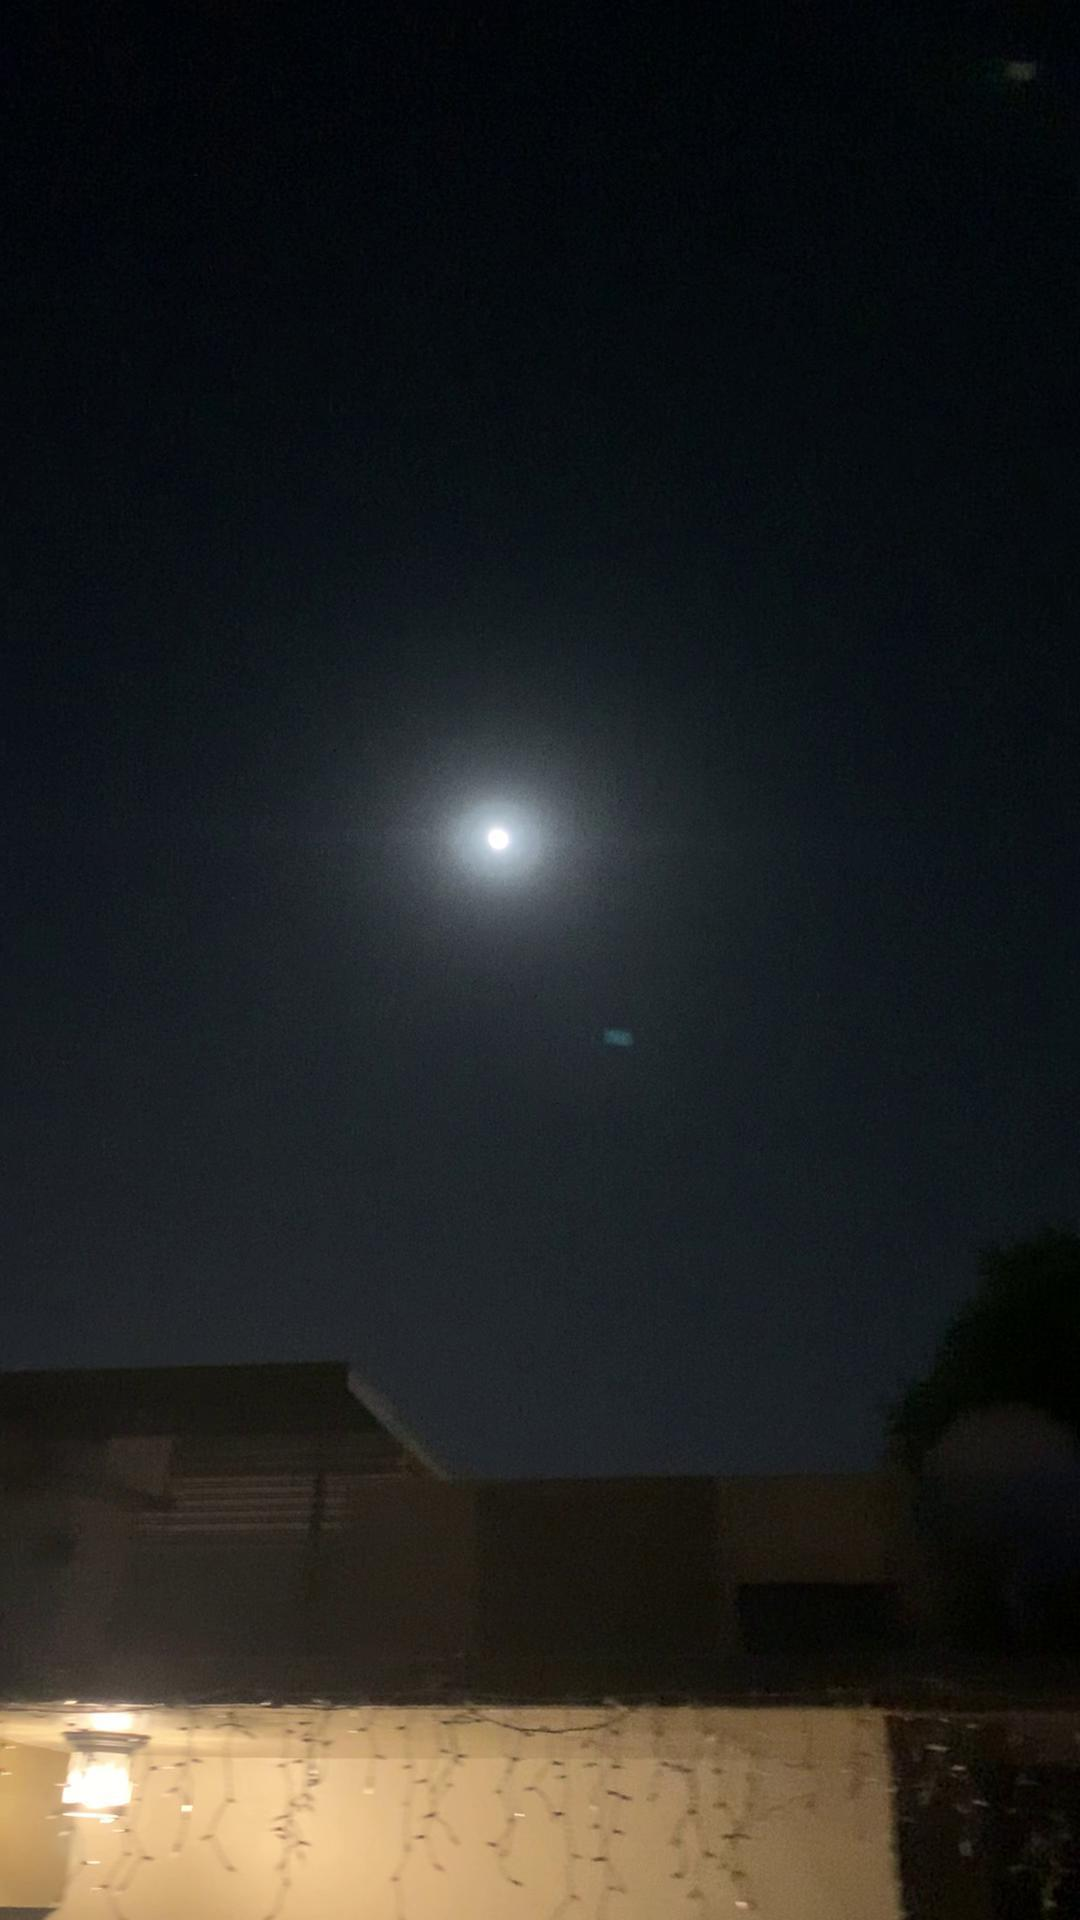moon: (451, 799, 538, 894)
